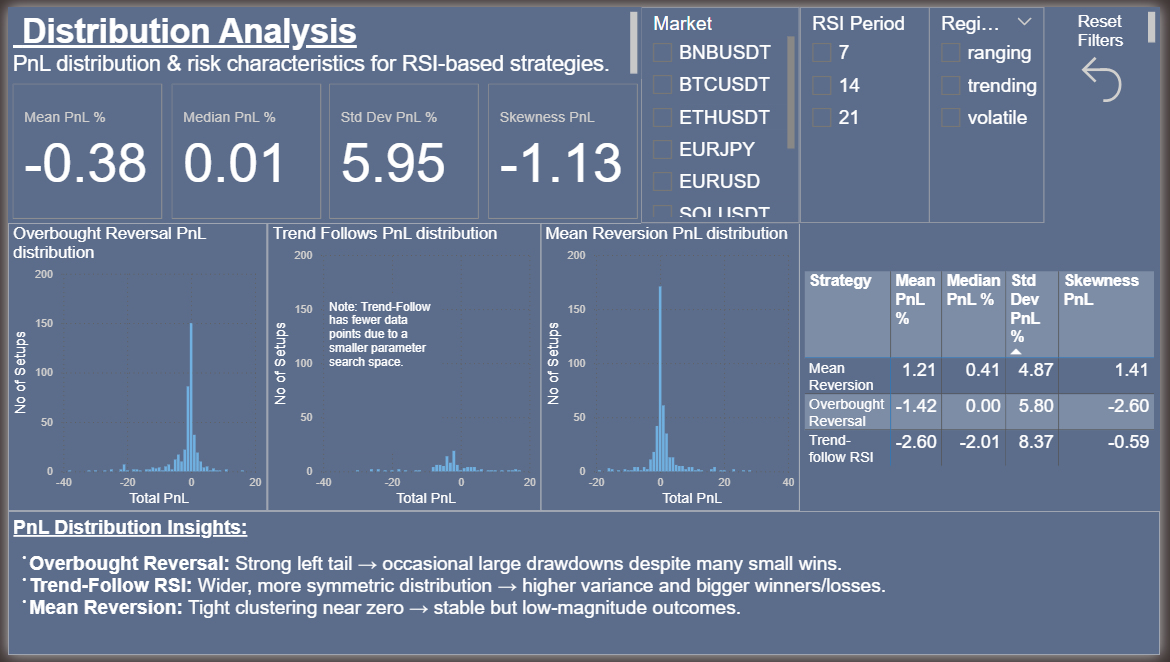

Layout of this report page (visuals, bound fields, positions):
{"tool":"powerbi","page":{"name":"Distribution Analysis","canvas":[1280,720],"ordinal":1},"visuals":[{"type":"clusteredColumnChart","title":"Overbought Reversal PnL distribution","fields":{"Category":["rsi_strategy_results.Total PnL (%) (bins)"],"Y":["rsi_strategy_results.Count of Runs"]},"box":[0,240,288,320],"z":0},{"type":"clusteredColumnChart","title":"Mean Reversion  PnL distribution","fields":{"Category":["rsi_strategy_results.Total PnL (%) (bins)"],"Y":["rsi_strategy_results.Count of Runs"]},"box":[592,240,288,320],"z":1000},{"type":"clusteredColumnChart","title":"Trend Follows PnL distribution","fields":{"Category":["rsi_strategy_results.Total PnL (%) (bins)"],"Y":["rsi_strategy_results.Count of Runs"]},"box":[288,240,304,320],"z":2000},{"type":"cardVisual","fields":{"Data":["rsi_strategy_results.Mean PnL %"]},"box":[0,80,176,160],"z":3000},{"type":"cardVisual","fields":{"Data":["rsi_strategy_results.Median PnL %"]},"box":[176,80,176,160],"z":4000},{"type":"cardVisual","fields":{"Data":["rsi_strategy_results.Std Dev PnL %"]},"box":[352,80,176,160],"z":5000},{"type":"cardVisual","fields":{"Data":["rsi_strategy_results.Skewness PnL"]},"box":[528,80,176,160],"z":6000},{"type":"textbox","box":[0,560,1280,160],"z":7000},{"type":"textbox","box":[352,320,128,176],"z":8000},{"type":"pivotTable","fields":{"Rows":["rsi_strategy_results.Strategy"],"Values":["rsi_strategy_results.Mean PnL %","rsi_strategy_results.Median PnL %","rsi_strategy_results.Std Dev PnL %","rsi_strategy_results.Skewness PnL"]},"box":[880,288,400,240],"z":9000},{"type":"slicer","fields":{"Values":["rsi_strategy_results.Market"]},"box":[704,0,176,240],"z":10000},{"type":"slicer","fields":{"Values":["rsi_strategy_results.RSI Period"]},"box":[880,0,144,240],"z":11000},{"type":"slicer","fields":{"Values":["rsi_strategy_results.Regime"]},"box":[1024,0,128,240],"z":12000},{"type":"actionButton","box":[1184,48,96,64],"z":13000},{"type":"textbox","box":[1184,0,96,48],"z":14000},{"type":"textbox","box":[0,0,704,80],"z":15000}]}

Visuals, with their boxes in screenshot pixels (x1, y1, x2, y2), scaled from the page's 1280x720 canvas onto the 1170x662 screenshot:
"Overbought Reversal PnL distribution" clusteredColumnChart: left=0, top=221, right=263, bottom=515
"Mean Reversion  PnL distribution" clusteredColumnChart: left=541, top=221, right=804, bottom=515
"Trend Follows PnL distribution" clusteredColumnChart: left=263, top=221, right=541, bottom=515
cardVisual - rsi_strategy_results.Mean PnL %: left=0, top=74, right=161, bottom=221
cardVisual - rsi_strategy_results.Median PnL %: left=161, top=74, right=322, bottom=221
cardVisual - rsi_strategy_results.Std Dev PnL %: left=322, top=74, right=483, bottom=221
cardVisual - rsi_strategy_results.Skewness PnL: left=483, top=74, right=644, bottom=221
textbox: left=0, top=515, right=1169, bottom=661
textbox: left=322, top=294, right=439, bottom=456
pivotTable - rsi_strategy_results.Strategy x rsi_strategy_results.Mean PnL %: left=804, top=265, right=1169, bottom=485
slicer - rsi_strategy_results.Market: left=644, top=0, right=804, bottom=221
slicer - rsi_strategy_results.RSI Period: left=804, top=0, right=936, bottom=221
slicer - rsi_strategy_results.Regime: left=936, top=0, right=1053, bottom=221
actionButton: left=1082, top=44, right=1169, bottom=103
textbox: left=1082, top=0, right=1169, bottom=44
textbox: left=0, top=0, right=644, bottom=74
